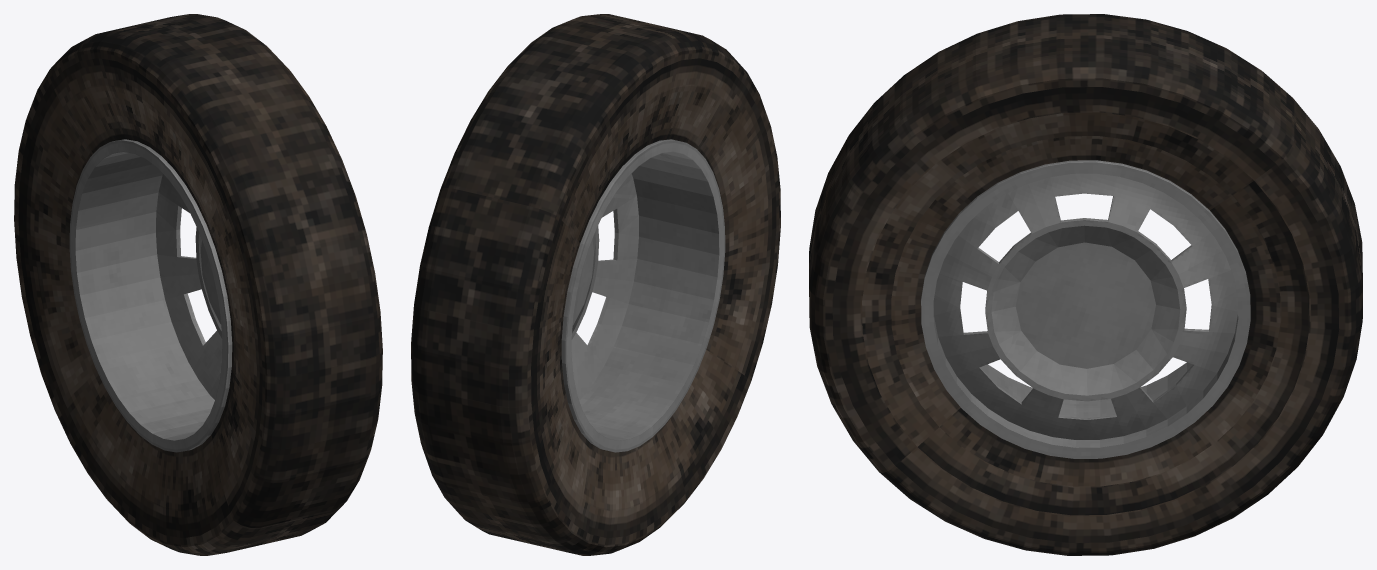
The model's file is wheels.obj.
The picture shows the model from 3 angles, left to right: view 1: azimuth 30°, elevation 25°; view 2: azimuth 150°, elevation 25°; view 3: azimuth 270°, elevation 25°; orthographic projection. The views are drawn at different scales.
Parts seen in each view (by area): view 1: Wheel_BR.002; view 2: Wheel_BR.002; view 3: Wheel_BR.002.
Part boxes in pixels (box(x1,y1,x2,y2)): Wheel_BR.002: box(14, 14, 382, 555); Wheel_BR.002: box(411, 14, 780, 555); Wheel_BR.002: box(809, 14, 1362, 555).
Size of the model in its own units: 0.1679 by 0.6403 by 0.6391.
